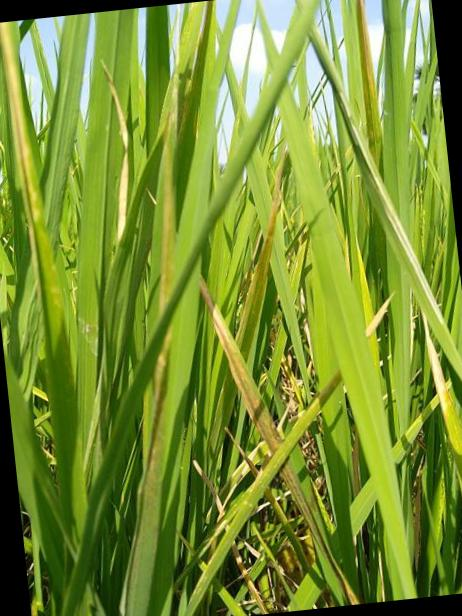Leaf Blight: (306, 30, 462, 382), (422, 313, 462, 456), (353, 0, 382, 153), (232, 542, 271, 614), (193, 460, 225, 522), (225, 427, 259, 479), (218, 461, 250, 507), (250, 441, 271, 467)
Leaf Streak: (0, 21, 62, 348), (200, 277, 283, 455), (234, 144, 289, 364), (279, 462, 362, 605), (158, 67, 196, 319), (136, 344, 170, 527)
